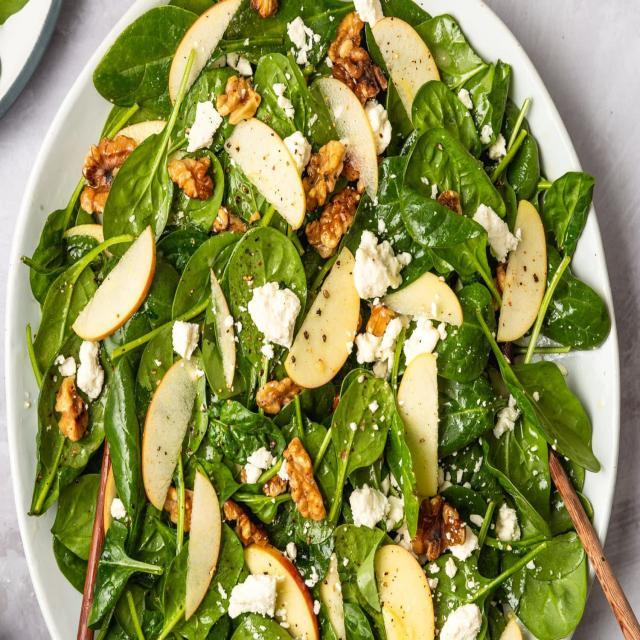Spinach: (24, 11, 608, 640)
